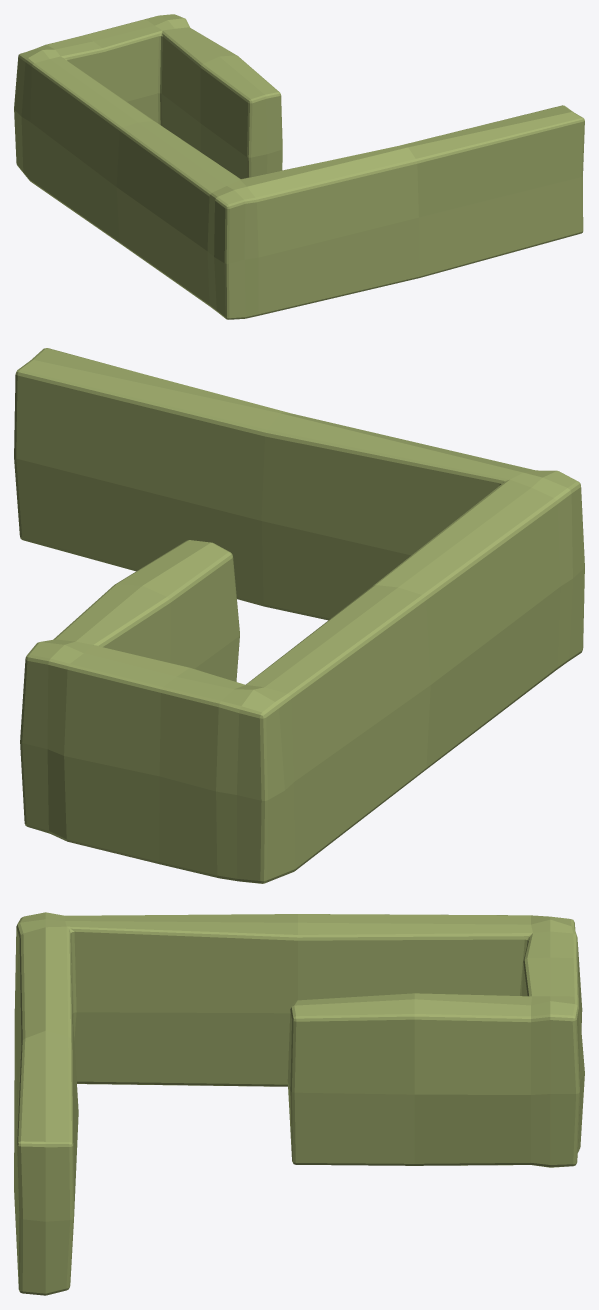
Rendered from Wall piece 8.fbx.
3 views of the same model, one above another, from view 1: azimuth 30°, elevation 25°; view 2: azimuth 150°, elevation 25°; view 3: azimuth 270°, elevation 25° (orthographic). The views are drawn at different scales.
Visible parts, largest first — view 1: wall piece 8O; view 2: wall piece 8O; view 3: wall piece 8O.
Part boxes in pixels (<box>): wall piece 8O: <box>14,14,584,319</box>; wall piece 8O: <box>14,348,584,883</box>; wall piece 8O: <box>14,912,584,1295</box>.
Size of the model in its own units: 1431 by 1471 by 468.
